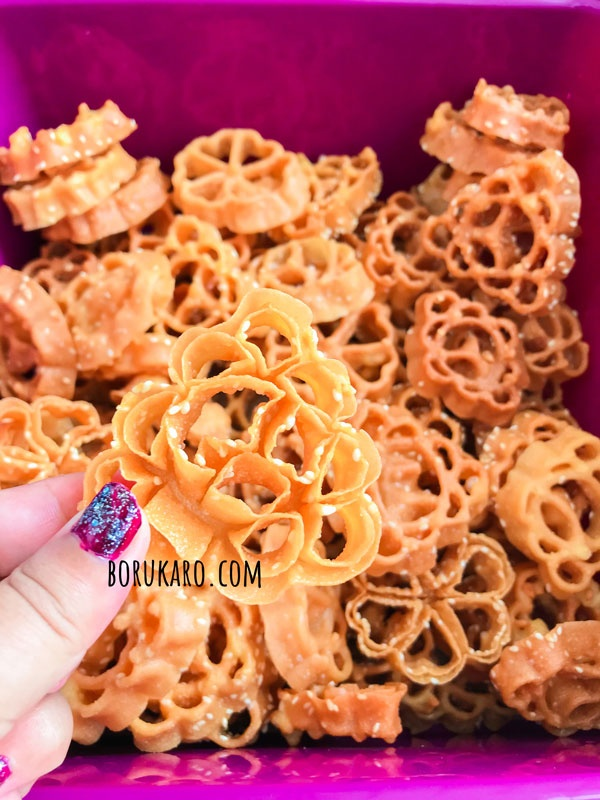kembang_goyang: (109, 290, 372, 594)
